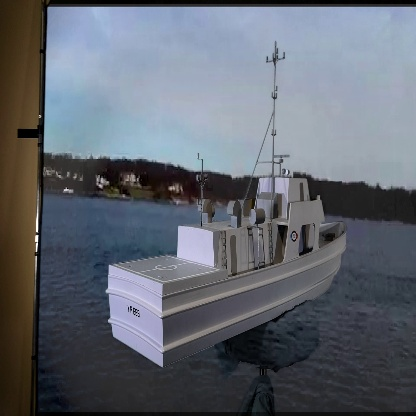YP689: (106, 43, 351, 369)
